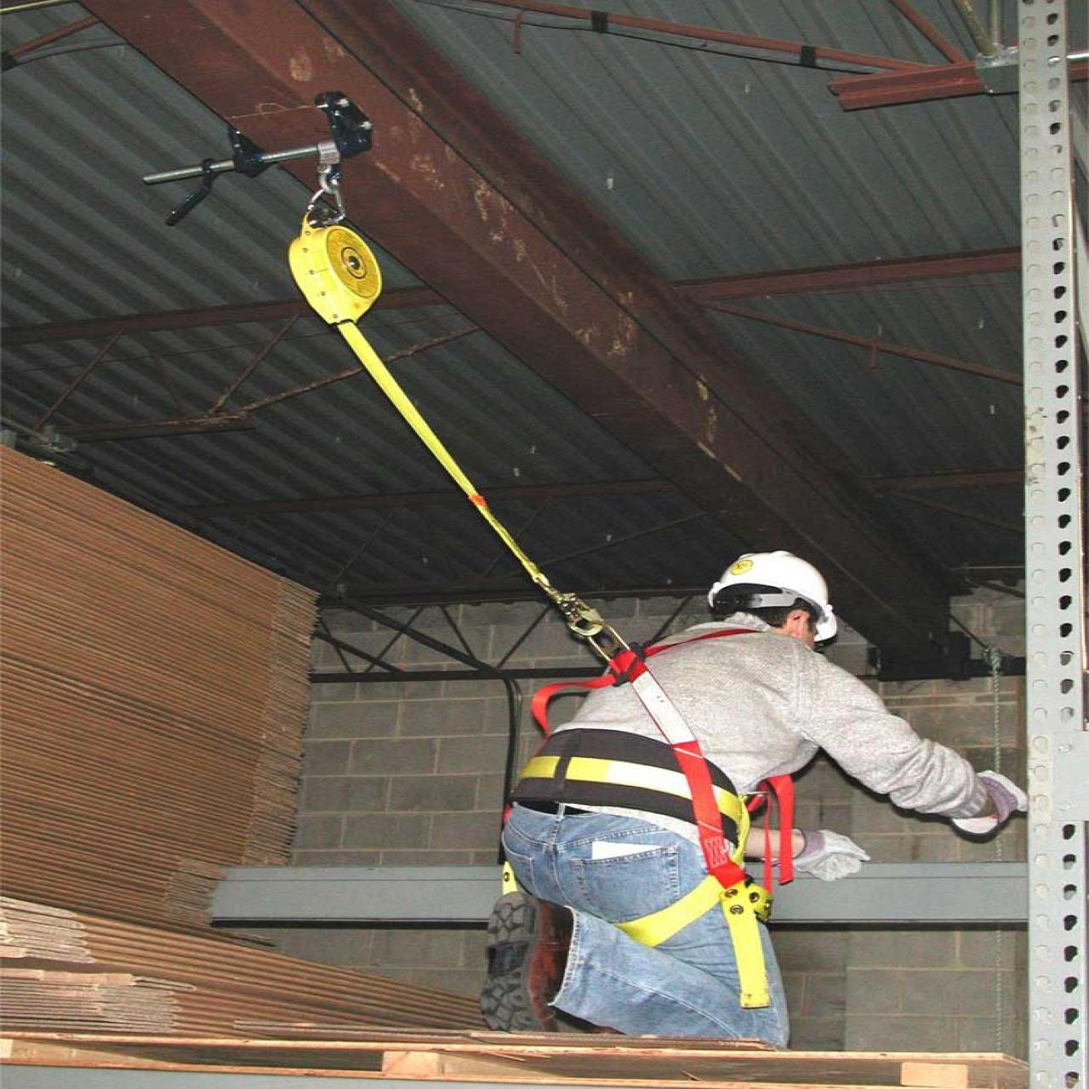NO_Safety_Vest: (482, 617, 870, 844)
Person: (465, 527, 1025, 1065)
